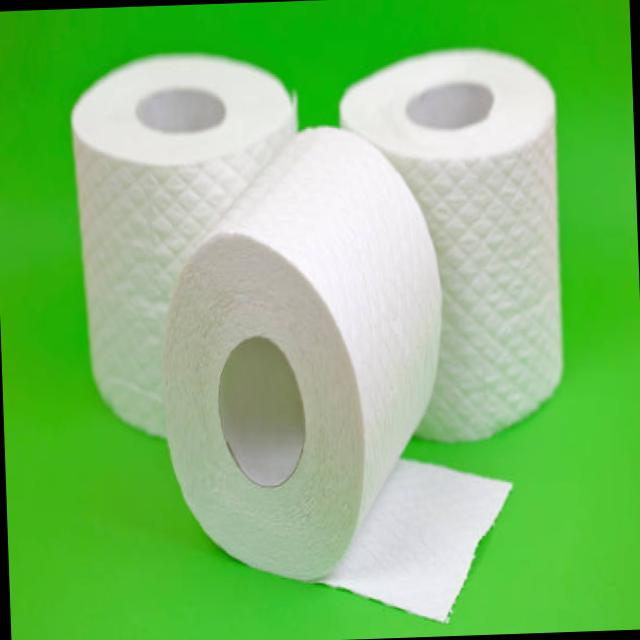electronic: (152, 119, 452, 586), (68, 47, 310, 442), (335, 43, 567, 446), (308, 452, 516, 628)
